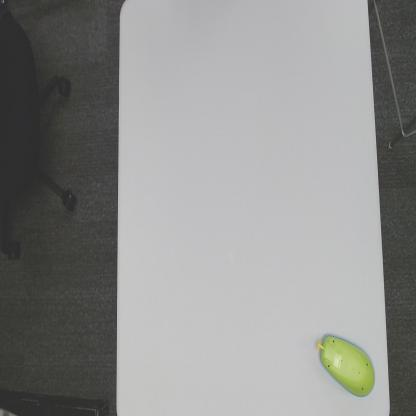Boat: (312, 327, 379, 406)
